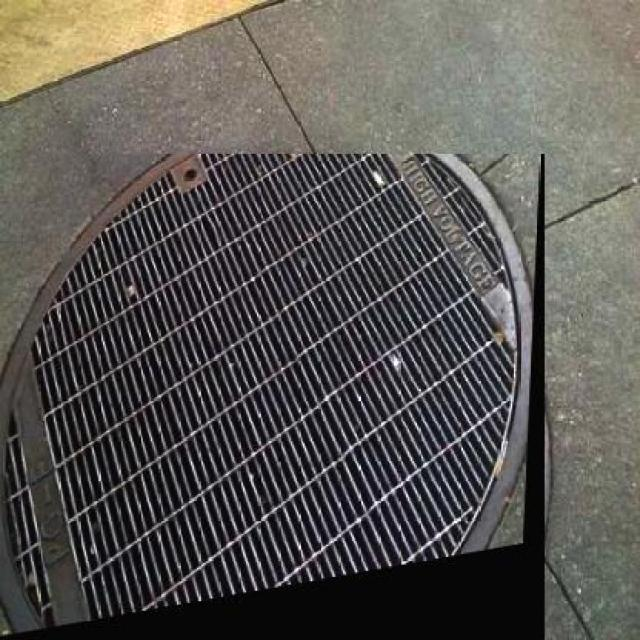Manhole: (0, 154, 545, 640)
